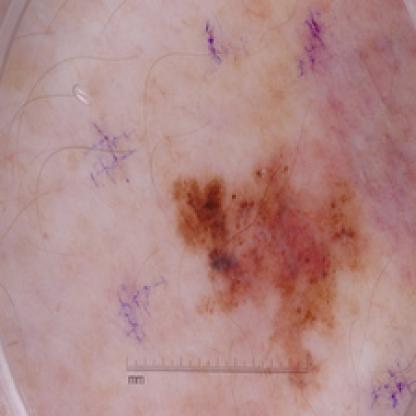malignant: (173, 169, 351, 331)
